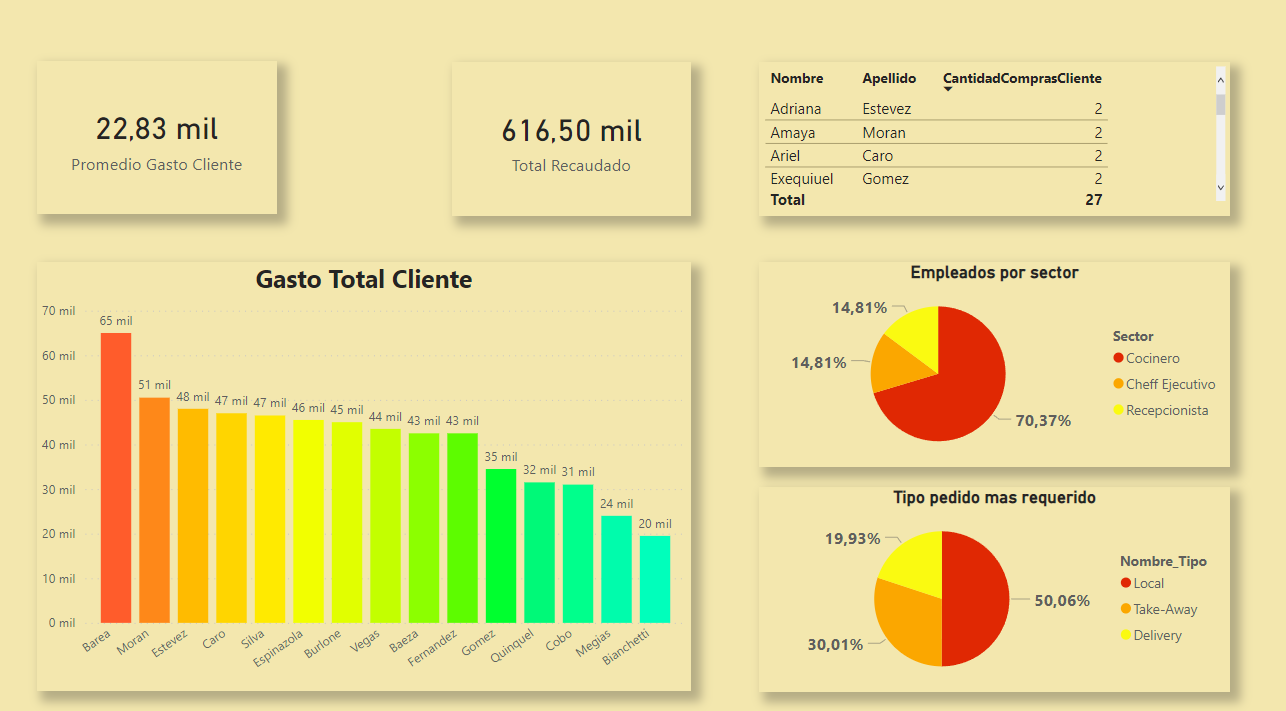

What the dashboard file says about the page in this screenshot:
{"tool":"powerbi","page":{"name":"Página 1","canvas":[1280,720],"ordinal":0},"visuals":[{"type":"columnChart","title":"Gasto Total Cliente","fields":{"Category":["Clientes.Apellido"],"Y":["Ordenes.Monto_Total"],"Series":["Clientes.Nombre"]},"box":[41.6,277.5,640,420],"z":0},{"type":"card","fields":{"Values":["Medidas.Promedio Gasto"]},"box":[41.6,80.7,235,150.4],"z":1},{"type":"card","title":"Total Recaudado","fields":{"Values":["Medidas.TotalRecaudado"]},"box":[447.4,81.9,234.7,150.4],"z":2},{"type":"pieChart","title":"Tipo pedido mas requerido","fields":{"Category":["tipo_pedido.Nombre_Tipo"],"Y":["Facturacion.Monto"]},"box":[748.1,497.5,460.8,200.5],"z":3},{"type":"pieChart","title":"Empleados por sector","fields":{"Category":["Departamentos.Sector"],"Y":["Empleados.Nombre"]},"box":[748.1,277.5,460.8,200.5],"z":4},{"type":"tableEx","fields":{"Values":["Clientes.Nombre","Clientes.Apellido","Medidas.Cantidad comrpas cliente"]},"box":[748,82,461,150],"z":5}]}

Visuals, with their boxes in screenshot pixels (x1, y1, x2, y2), scaled from the page's 1280x720 canvas onto the 1286x711 screenshot:
"Gasto Total Cliente" columnChart: pyautogui.locateOnScreen(42, 274, 685, 689)
card - Medidas.Promedio Gasto: pyautogui.locateOnScreen(42, 80, 278, 228)
"Total Recaudado" card: pyautogui.locateOnScreen(449, 81, 685, 229)
"Tipo pedido mas requerido" pieChart: pyautogui.locateOnScreen(752, 491, 1215, 689)
"Empleados por sector" pieChart: pyautogui.locateOnScreen(752, 274, 1215, 472)
tableEx - Clientes.Nombre x Clientes.Apellido: pyautogui.locateOnScreen(752, 81, 1215, 229)
